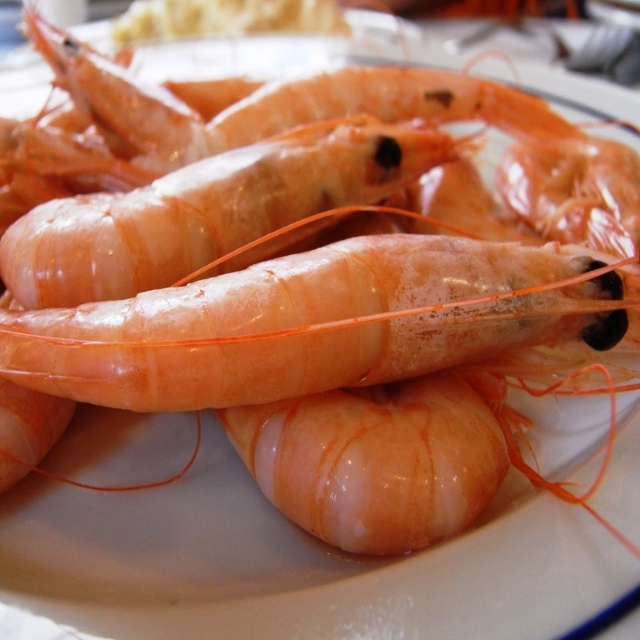Shrimp: (0, 0, 640, 564)
